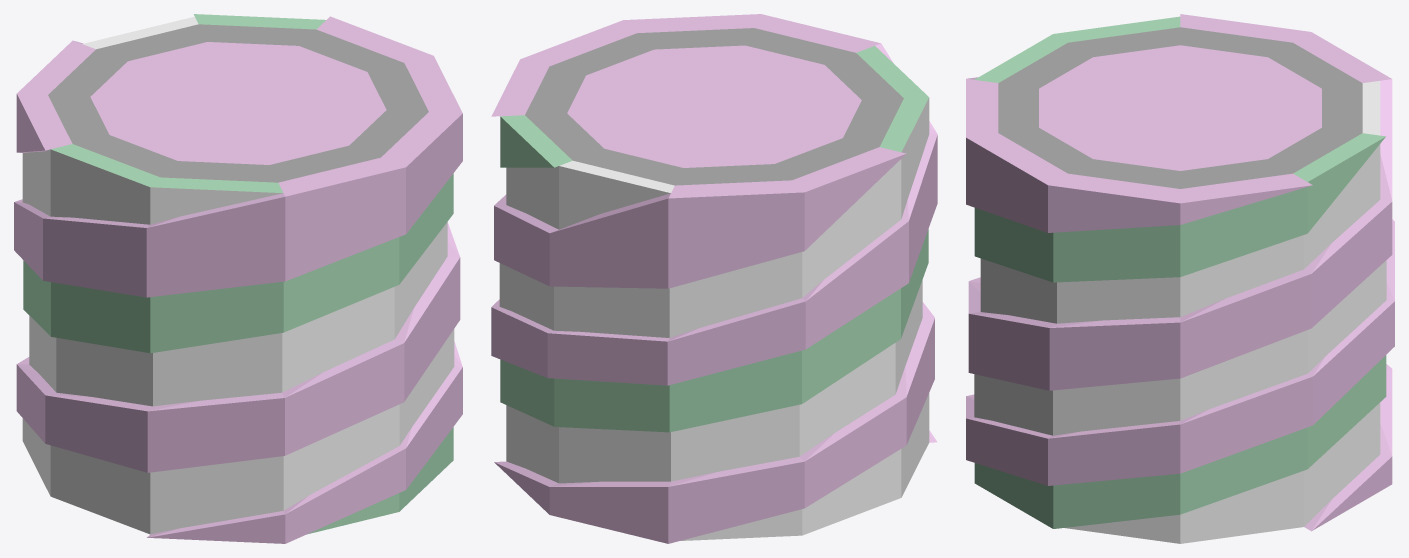
The model's file is Masmelo.fbx.
3 renders of one model, left to right at view 1: azimuth 30°, elevation 25°; view 2: azimuth 150°, elevation 25°; view 3: azimuth 270°, elevation 25°, orthographic.
Parts seen in each view (by area): view 1: pCylinder3; view 2: pCylinder3; view 3: pCylinder3.
Part boxes in pixels (left/top/right/bottom): pCylinder3: left=14, top=14, right=462, bottom=543; pCylinder3: left=491, top=14, right=937, bottom=543; pCylinder3: left=966, top=14, right=1394, bottom=543.
Bounding box in the file's own units: 2.36 × 2 × 2.24.
